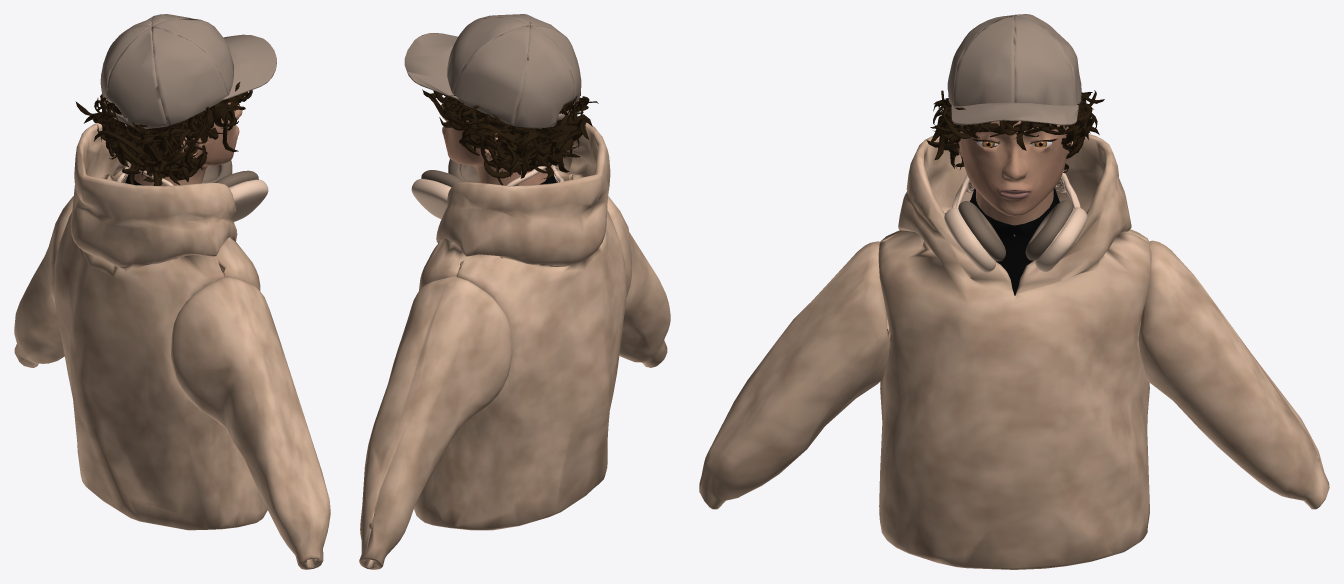
Rendered from Khubaib-web.glb.
3 views of the same model, side by side, from view 1: azimuth 30°, elevation 25°; view 2: azimuth 150°, elevation 25°; view 3: azimuth 270°, elevation 25° (orthographic). The views are drawn at different scales.
Parts seen in each view (by area): view 1: Hoodie, Cap, Hair, Head, Cube.007, Cube.001, Cube.005; view 2: Hoodie, Cap, Hair, Head, Cube.004, Cube.005, Cube.001; view 3: Hoodie, Cap, Head, Hair, Cube.004, Cube.007, Cube.001, Cube.005.
Boxes of the visible parts, x1,y1,x2,y2 form: Hoodie: (14, 123, 330, 569); Cap: (100, 14, 276, 128); Hair: (75, 82, 252, 185); Head: (125, 102, 242, 186); Cube.007: (229, 179, 268, 221); Cube.001: (202, 160, 232, 183); Cube.005: (215, 170, 258, 187); Hoodie: (359, 122, 670, 569); Cap: (404, 14, 581, 128); Hair: (422, 89, 598, 185); Head: (439, 104, 556, 185); Cube.004: (411, 179, 451, 219); Cube.005: (448, 159, 479, 182); Cube.001: (421, 170, 464, 186); Hoodie: (699, 134, 1329, 569); Cap: (947, 14, 1081, 125); Head: (945, 121, 1073, 295); Hair: (926, 90, 1104, 173); Cube.004: (1035, 207, 1087, 271); Cube.007: (944, 208, 995, 272); Cube.001: (1025, 200, 1073, 260); Cube.005: (958, 201, 1005, 261).
Size of the model in its own units: 1.71 by 4.15 by 4.64.
Materials: 13 (5 with a texture image).
